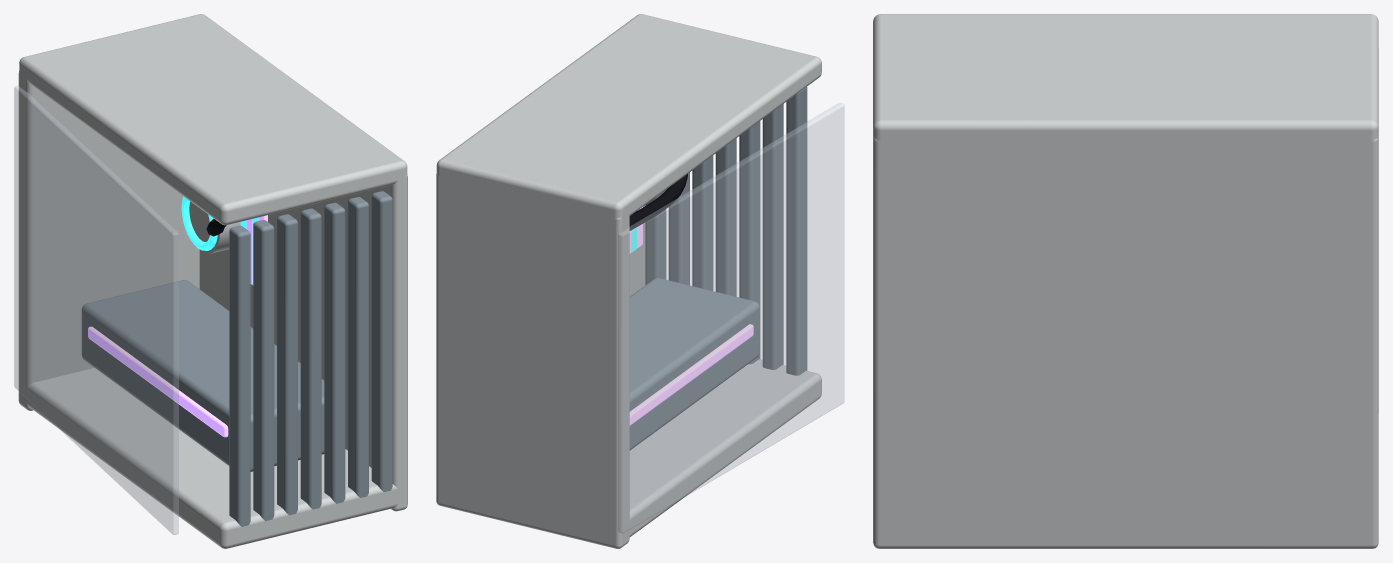
File: atelier-gaming-pc-arctic.glb
3 renders of one model, left to right at view 1: azimuth 30°, elevation 25°; view 2: azimuth 150°, elevation 25°; view 3: azimuth 270°, elevation 25°, orthographic. The views are drawn at different scales.
Bounding box in the file's own units: 0.1965 × 0.294 × 0.3151.
